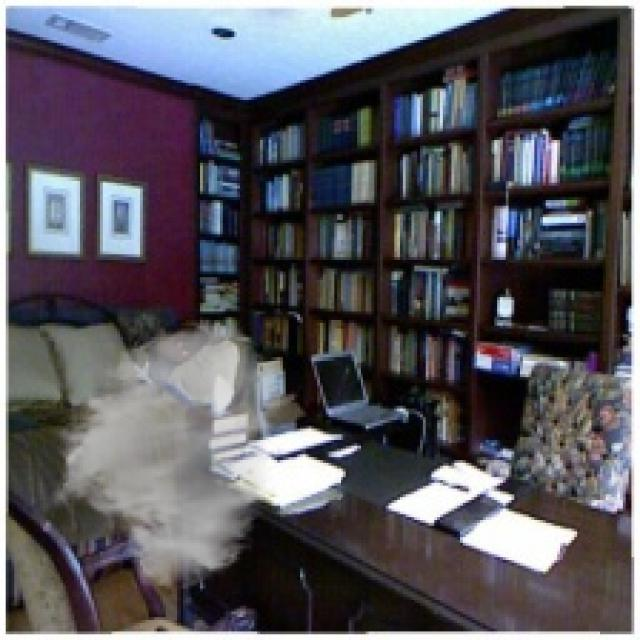smoke: (48, 317, 283, 592)
